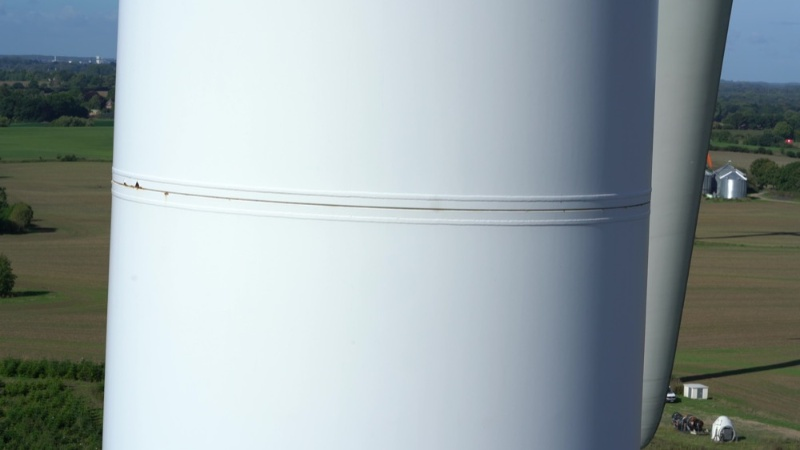weldseam: (110, 160, 655, 203), (109, 188, 652, 230)
